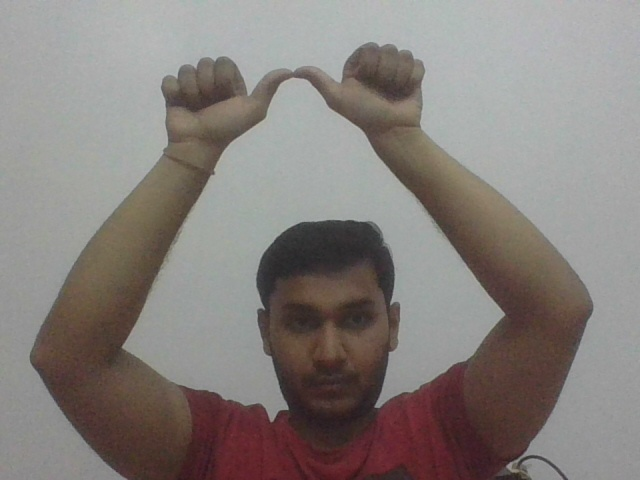A: (160, 37, 429, 139)
